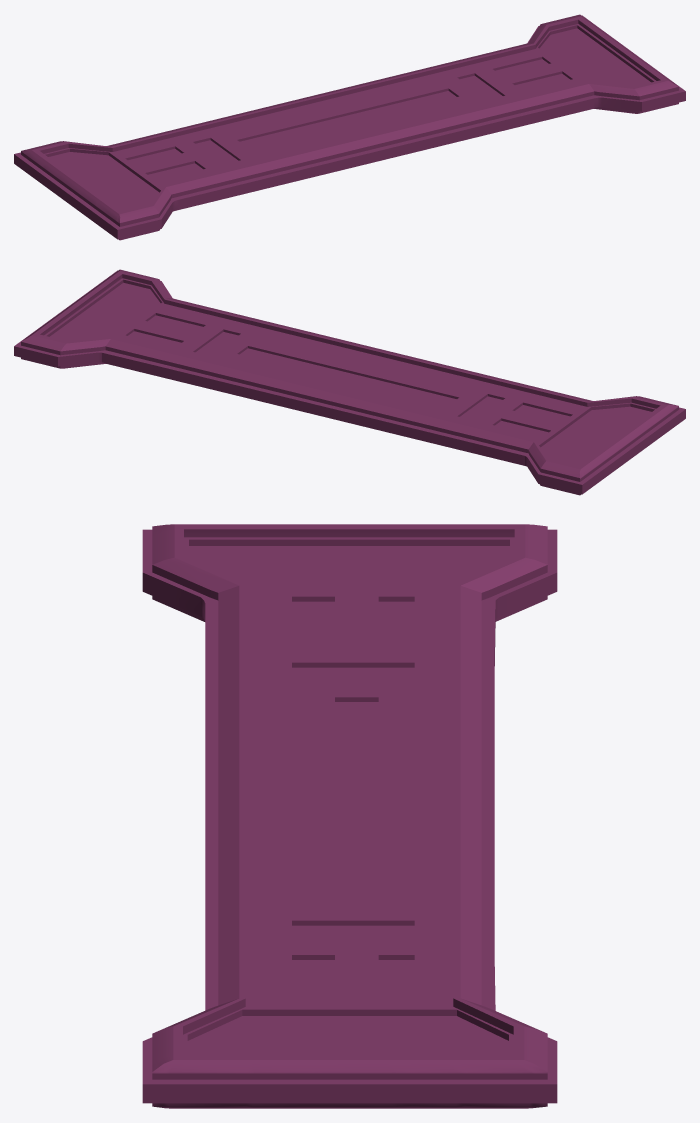
The model's file is Bridge.fbx.
The picture shows the model from 3 angles, top to bottom: view 1: azimuth 30°, elevation 25°; view 2: azimuth 150°, elevation 25°; view 3: azimuth 270°, elevation 25°; orthographic projection. The views are drawn at different scales.
Parts seen in each view (by area): view 1: Bridge; view 2: Bridge; view 3: Bridge.
Part boxes in pixels (<box>): Bridge: <box>14,14,685,240</box>; Bridge: <box>14,269,685,495</box>; Bridge: <box>142,524,557,1108</box>.
Size of the model in its own units: 2483 by 102 by 784.
